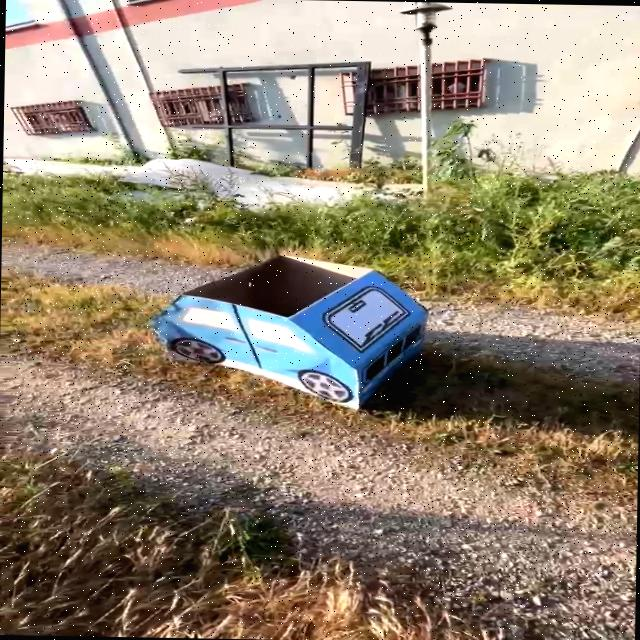blue_car: (94, 222, 505, 433)
